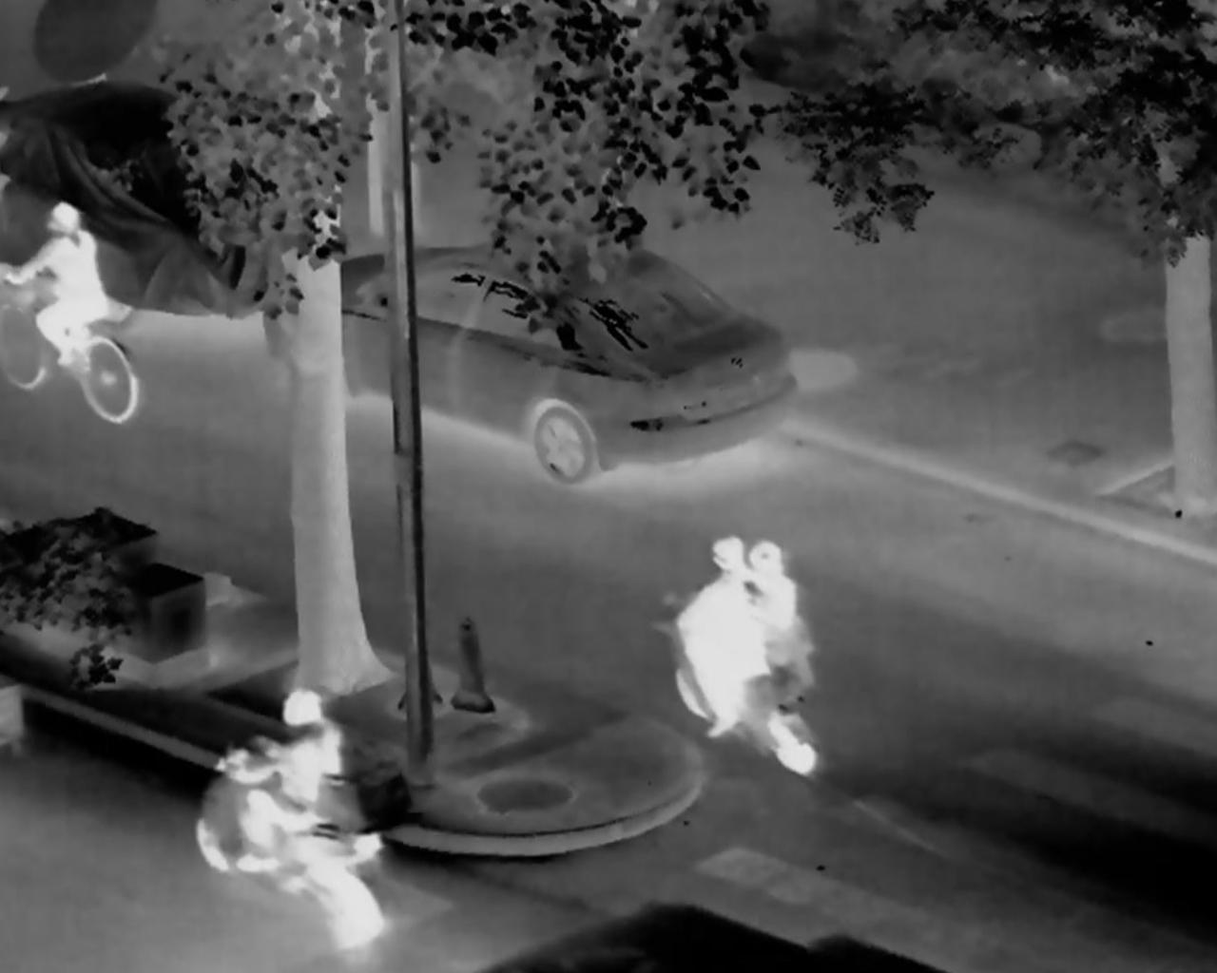person: (220, 692, 344, 849), (2, 203, 108, 368), (675, 536, 747, 735), (733, 541, 801, 694)
